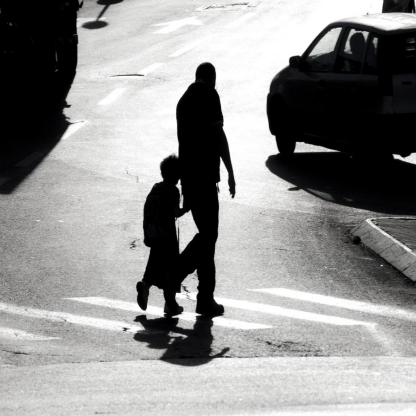Car: (265, 11, 415, 166)
